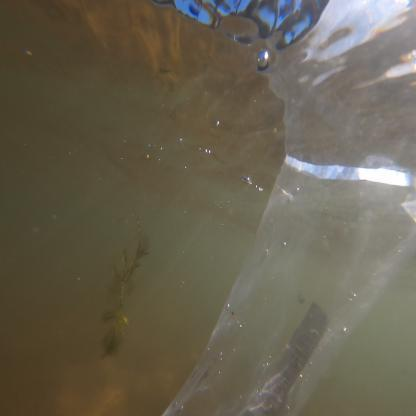Rác: (239, 155, 415, 415)
